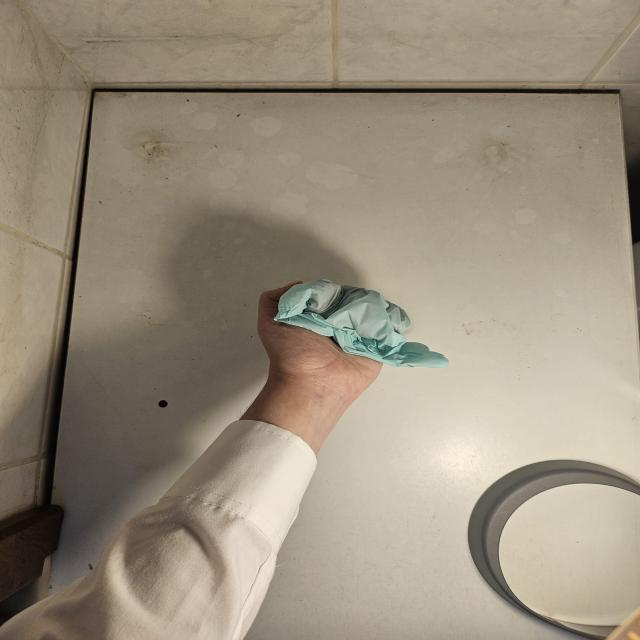glove_partial: (257, 279, 453, 394)
